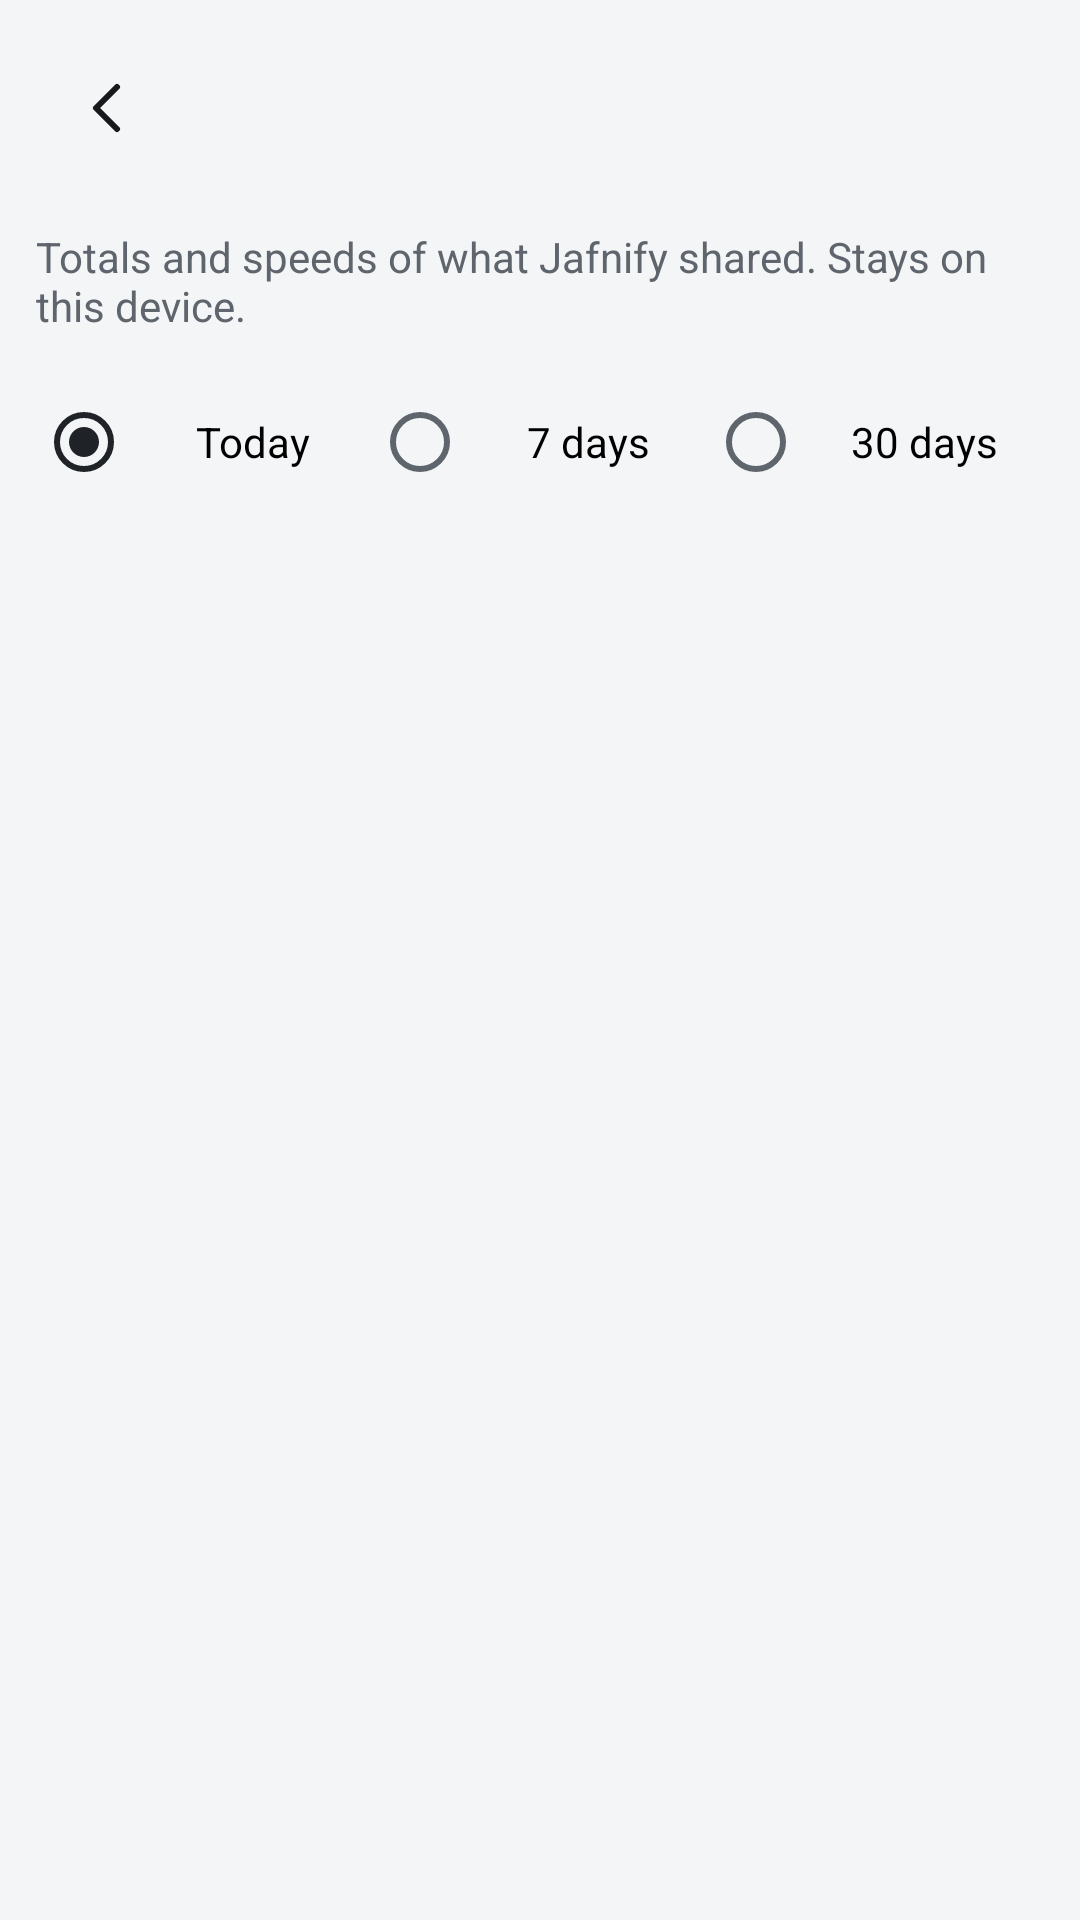

Screen size 1080 x 1920. Icon name, then its center in pixels as (x=x, y=y):
Back: (x=106, y=108)
